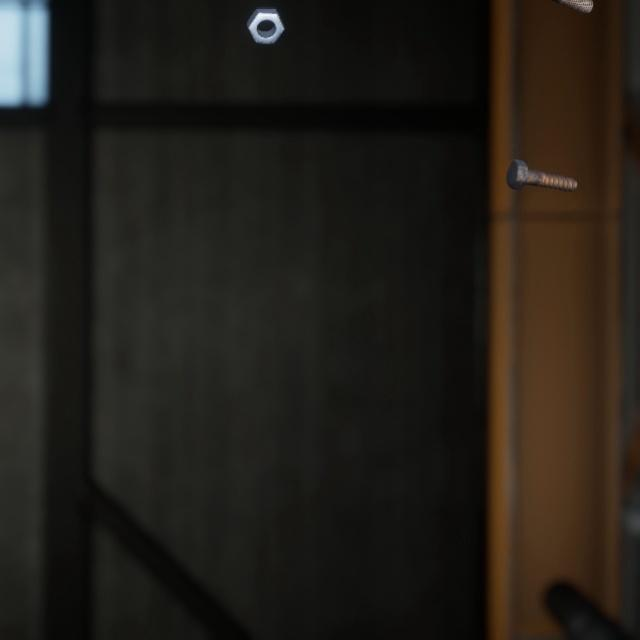bolt: (502, 140, 582, 182)
nut: (242, 0, 289, 39)
